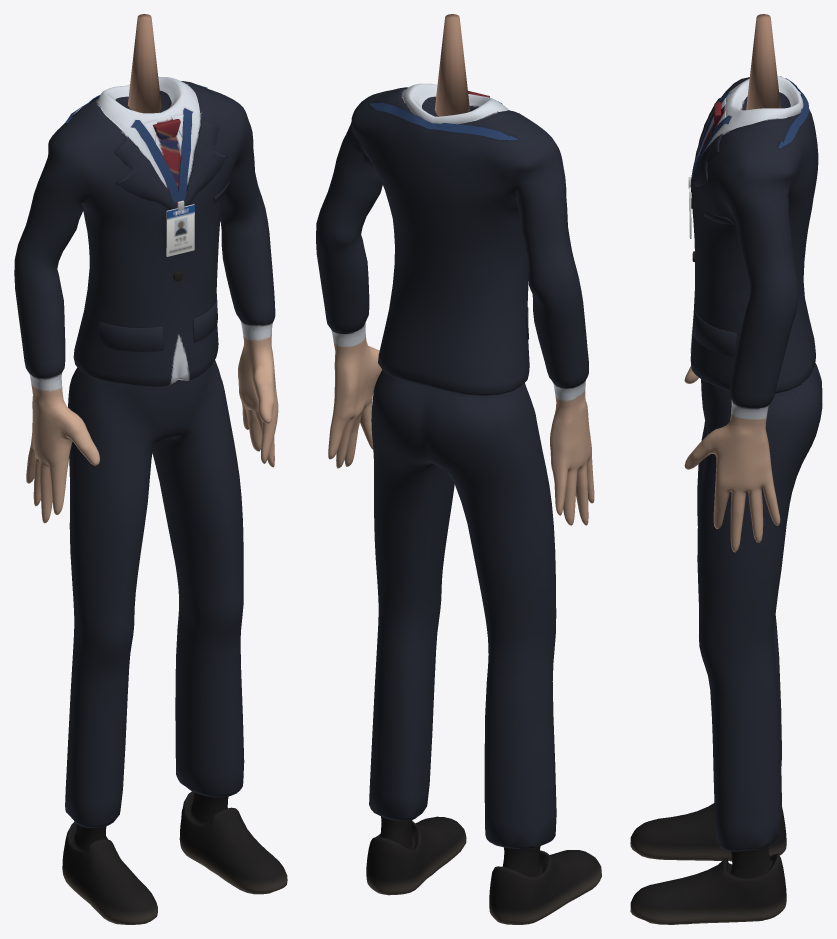
The model's file is PH_NPC__SuitMan_Body.fbx.
The picture shows the model from 3 angles, left to right: view 1: azimuth 30°, elevation 25°; view 2: azimuth 150°, elevation 25°; view 3: azimuth 270°, elevation 25°; orthographic projection. The views are drawn at different scales.
Parts seen in each view (by area): view 1: PH_NPC__SuitMan_Body; view 2: PH_NPC__SuitMan_Body; view 3: PH_NPC__SuitMan_Body.
Boxes of the visible parts, box(x1,y1,x2,y2) form: PH_NPC__SuitMan_Body: box(14, 14, 287, 924); PH_NPC__SuitMan_Body: box(316, 14, 601, 924); PH_NPC__SuitMan_Body: box(630, 14, 822, 924).
Size of the model in its own units: 0.4839 by 1.58 by 0.3171.
